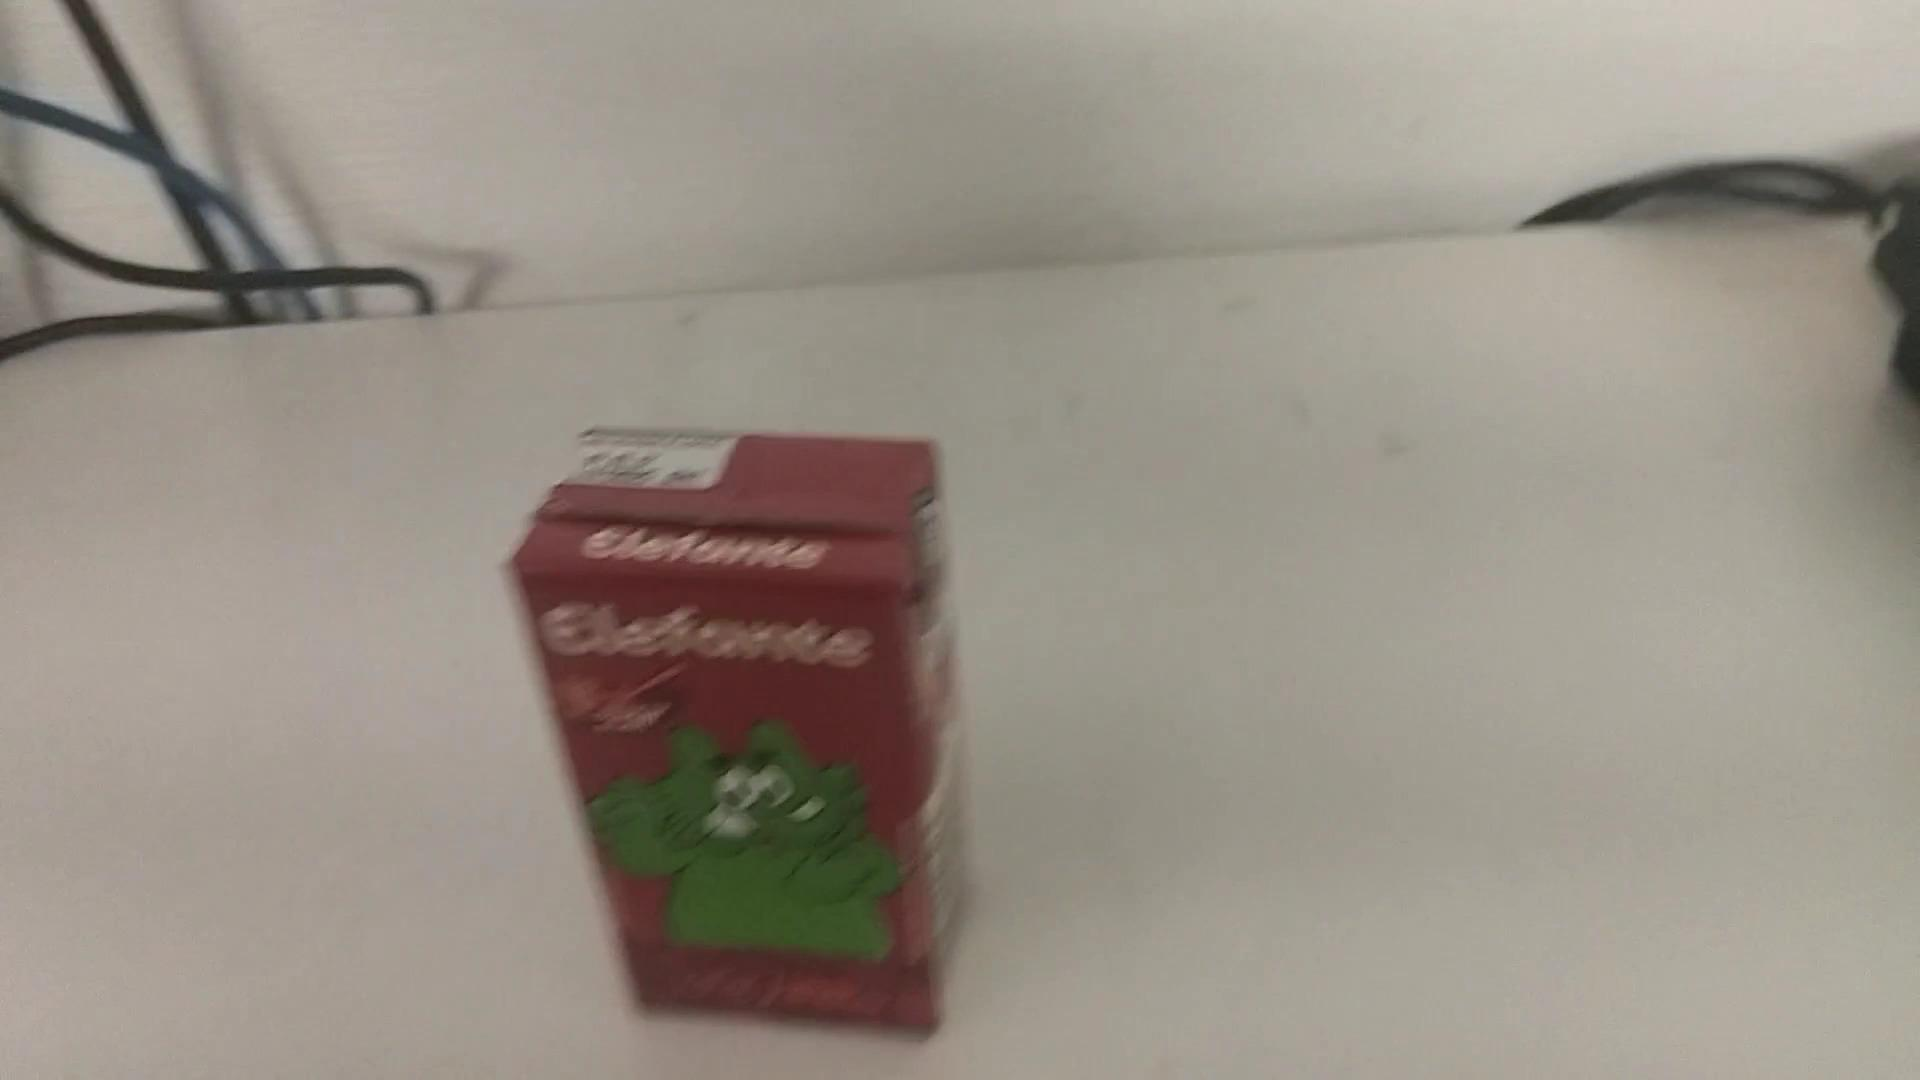tomate: (493, 426, 975, 1042)
